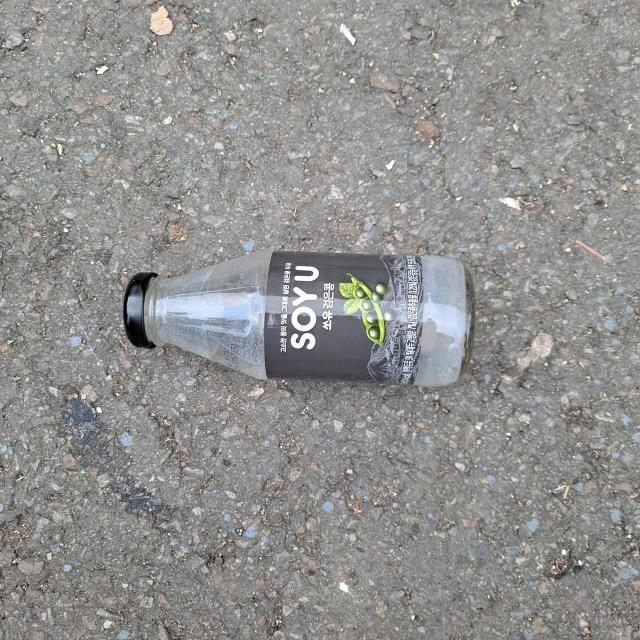glass: (123, 250, 475, 387)
